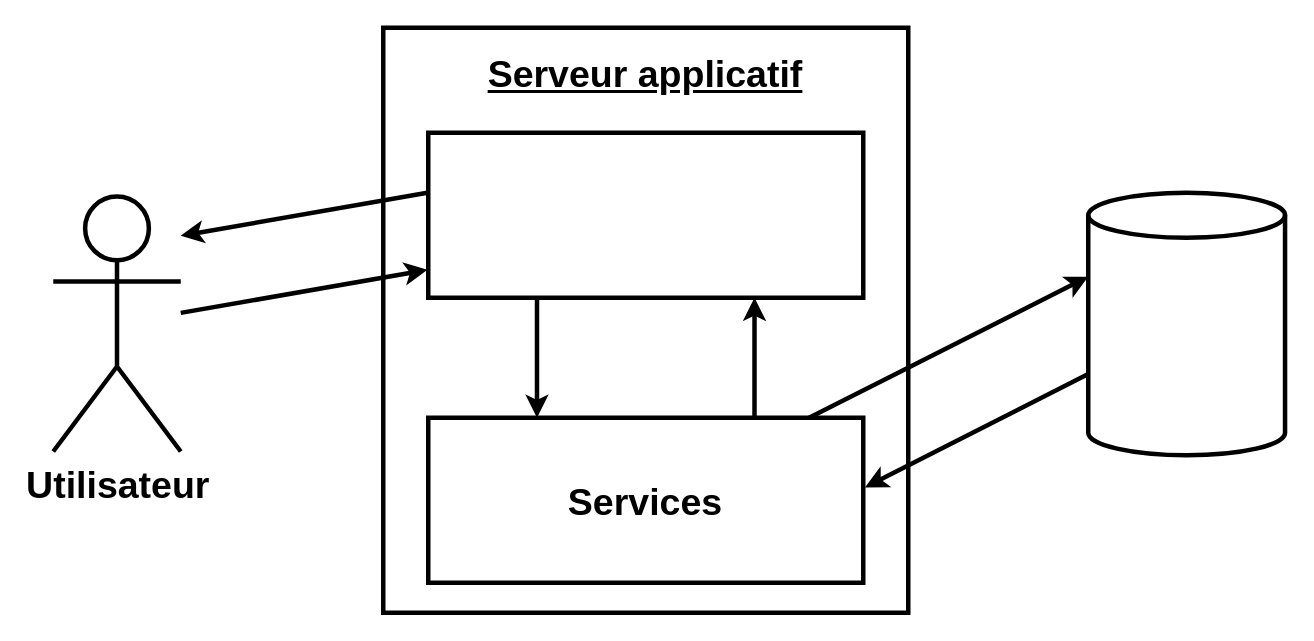
Some shapes in this 1314 by 641 pixel diagram are drawn without their labels. Here are the shapes that lost their labels. From the top down, the centre of each, then its label:
At point 645,214: "Présentation".
At point 1186,323: "Base de données".
